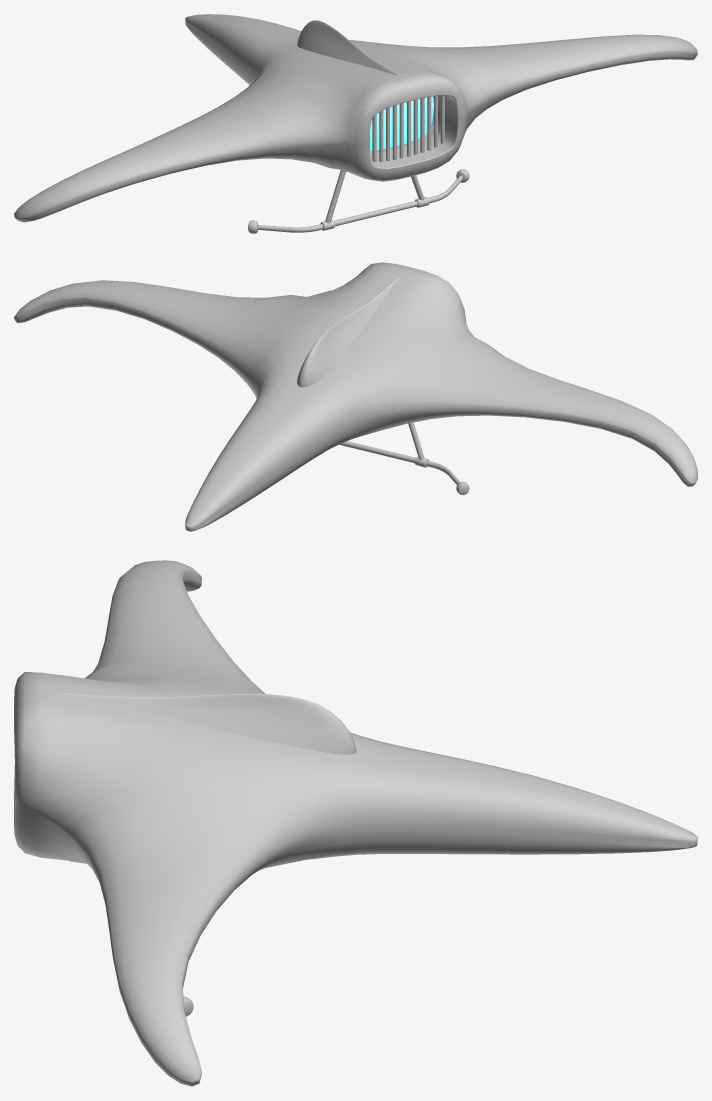
3 views of the same model, one above another, from view 1: azimuth 30°, elevation 25°; view 2: azimuth 150°, elevation 25°; view 3: azimuth 270°, elevation 25° (orthographic). The views are drawn at different scales.
Parts seen in each view (by area): view 1: Body, Grid, Cube, Rod_02, Rod_01; view 2: Body, Cube, Rod_02; view 3: Body, Cube.
Boxes of the visible parts, left/top/right/bottom form: Body: left=14, top=14, right=697, bottom=222; Grid: left=369, top=95, right=444, bottom=162; Cube: left=297, top=20, right=399, bottom=75; Rod_02: left=248, top=169, right=469, bottom=233; Rod_01: left=325, top=169, right=424, bottom=223; Body: left=14, top=262, right=697, bottom=531; Cube: left=297, top=276, right=400, bottom=387; Rod_02: left=339, top=441, right=469, bottom=495; Body: left=14, top=560, right=697, bottom=1086; Cube: left=56, top=692, right=356, bottom=754.
Size of the model in its own units: 1121 by 257 by 644.
